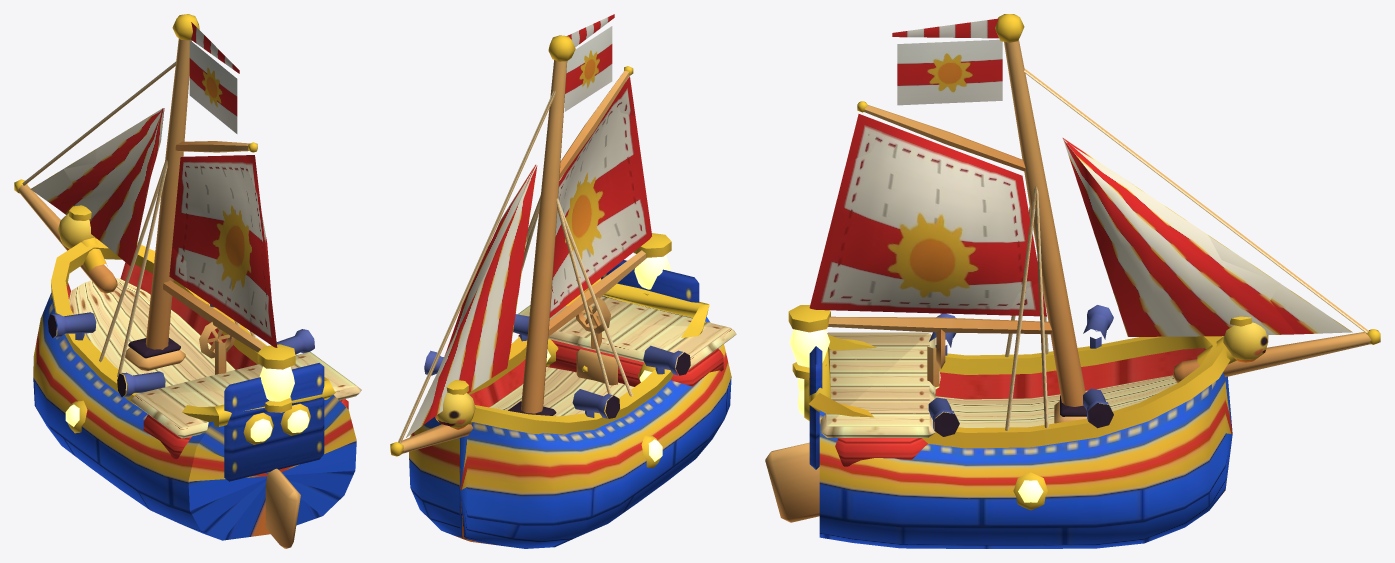
File: navy_cutter.glb
3 renders of one model, left to right at view 1: azimuth 30°, elevation 25°; view 2: azimuth 150°, elevation 25°; view 3: azimuth 270°, elevation 25°, orthographic. The views are drawn at different scales.
Parts seen in each view (by area): view 1: Hull, Sail0_0, Rigging, Jib, Flag, Guns0; view 2: Hull, Rigging, Sail0_0, Jib, Flag, Guns0; view 3: Hull, Sail0_0, Jib, Rigging, Flag, Guns0.
Part boxes in pixels (box(x1,y1,x2,y2)): Hull: box(33, 205, 361, 548); Sail0_0: box(169, 155, 277, 347); Rigging: box(14, 14, 265, 376); Jib: box(30, 108, 164, 265); Flag: box(189, 22, 239, 133); Guns0: box(48, 303, 314, 397); Hull: box(409, 233, 736, 548); Rigging: box(390, 35, 646, 456); Sail0_0: box(549, 76, 651, 317); Jib: box(406, 164, 537, 437); Flag: box(564, 14, 614, 111); Guns0: box(424, 314, 690, 418); Hull: box(765, 305, 1268, 548); Sail0_0: box(809, 114, 1046, 316); Jib: box(1062, 137, 1352, 336); Rigging: box(828, 14, 1380, 430); Flag: box(892, 18, 1002, 105); Guns0: box(928, 305, 1113, 436).
Bounding box in the file's own units: 1.1 × 2.24 × 2.46.
8 materials, 8 textured.
